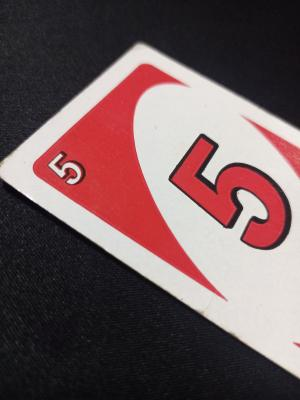num_5: (41, 145, 95, 192)
